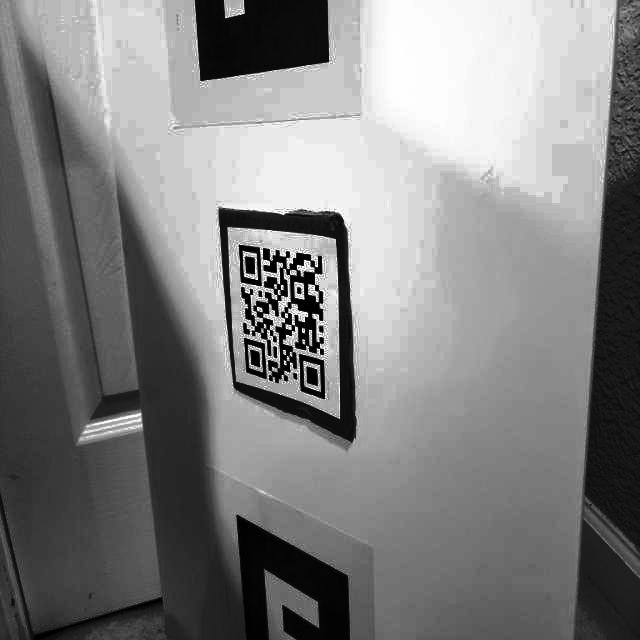qr_code: (234, 235, 335, 409)
